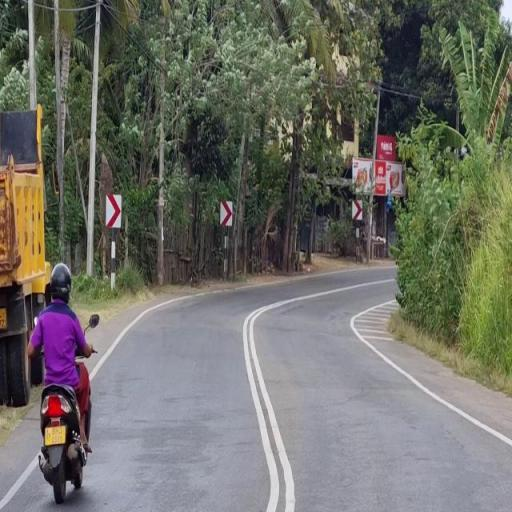double_white_line: (348, 301, 510, 448), (240, 296, 297, 510), (0, 454, 37, 511)
